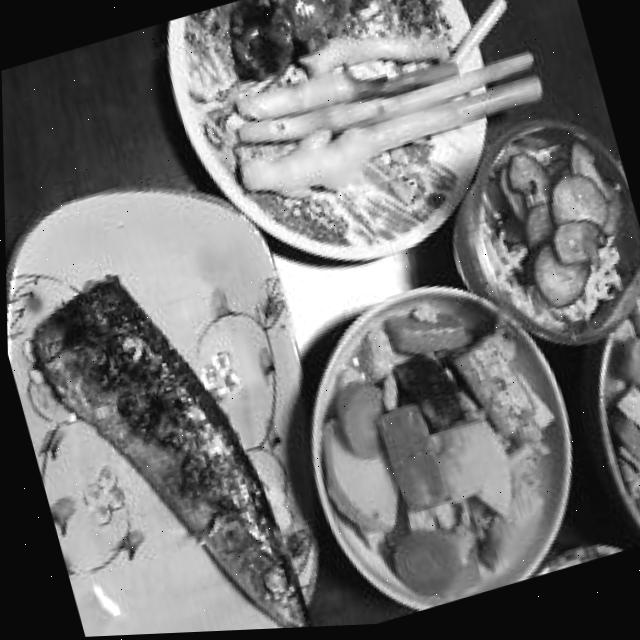熟制海鲜: (3, 158, 358, 640)
